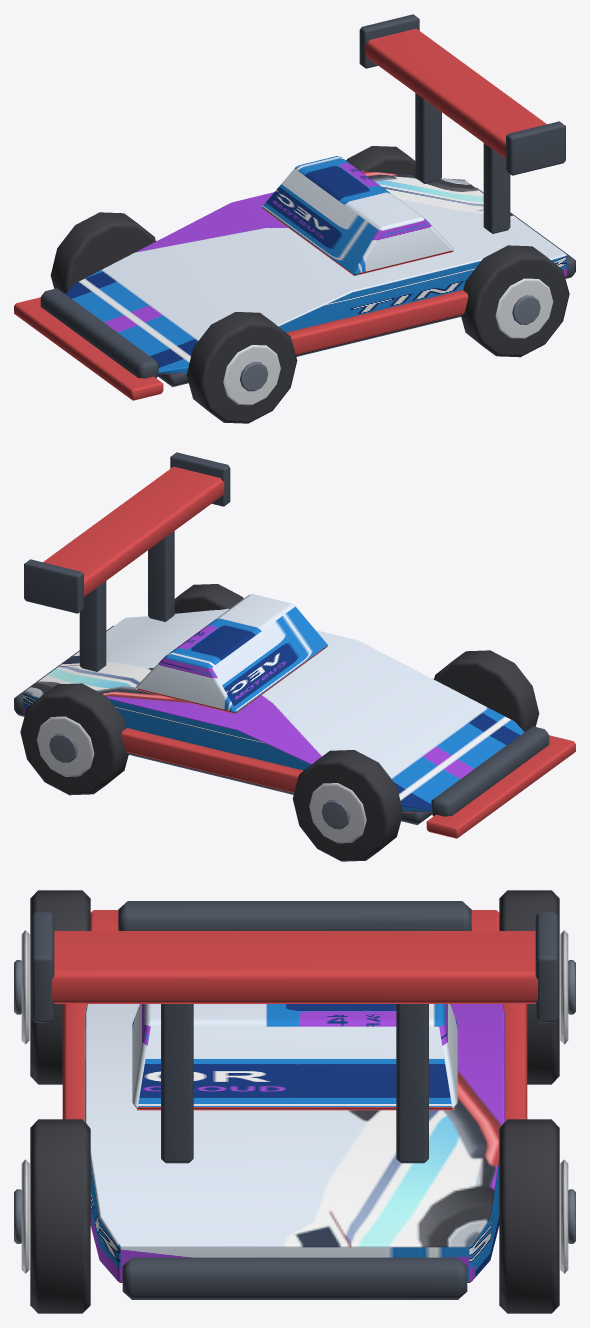
The picture shows the model from 3 angles, top to bottom: view 1: azimuth 30°, elevation 25°; view 2: azimuth 150°, elevation 25°; view 3: azimuth 270°, elevation 25°; orthographic projection. The views are drawn at different scales.
Parts seen in each view (by area): view 1: FF-05_connected_shell, FF-05_cabin, rear airfoil, Tire, Tire.002, Tire.001, custom side guard, custom chin, front bumper, wing endplate, wing support, wing support.001 (+7 smaller); view 2: FF-05_connected_shell, FF-05_cabin, rear airfoil, Tire.001, Tire.003, Tire, custom side guard.001, custom chin, front bumper, wing endplate.001, wing support.001, wing support (+7 smaller); view 3: FF-05_connected_shell, rear airfoil, FF-05_cabin, rear bumper, Tire.002, Tire.003, front bumper, wing support, wing support.001, Tire, Tire.001, custom side guard (+8 smaller).
Part boxes in pixels (x1=…): FF-05_connected_shell: x1=65, y1=170, x2=566, y2=374; FF-05_cabin: x1=262, y1=156, x2=453, y2=275; rear airfoil: x1=365, y1=28, x2=546, y2=158; Tire: x1=186, y1=312, x2=297, y2=423; Tire.002: x1=461, y1=245, x2=569, y2=357; Tire.001: x1=50, y1=212, x2=155, y2=293; custom side guard: x1=286, y1=290, x2=468, y2=354; custom chin: x1=14, y1=297, x2=163, y2=400; front bumper: x1=40, y1=288, x2=158, y2=378; wing endplate: x1=506, y1=121, x2=565, y2=175; wing support: x1=483, y1=143, x2=510, y2=233; wing support.001: x1=415, y1=93, x2=441, y2=183; FF-05_connected_shell: x1=23, y1=608, x2=524, y2=812; FF-05_cabin: x1=136, y1=594, x2=327, y2=713; rear airfoil: x1=43, y1=466, x2=224, y2=596; Tire.001: x1=292, y1=750, x2=403, y2=861; Tire.003: x1=20, y1=683, x2=128, y2=795; Tire: x1=434, y1=650, x2=539, y2=731; custom side guard.001: x1=121, y1=728, x2=303, y2=792; custom chin: x1=426, y1=735, x2=575, y2=838; front bumper: x1=431, y1=726, x2=549, y2=816; wing endplate.001: x1=24, y1=559, x2=83, y2=613; wing support.001: x1=79, y1=581, x2=106, y2=671; wing support: x1=148, y1=531, x2=174, y2=621; FF-05_connected_shell: x1=84, y1=1004, x2=505, y2=1282; rear airfoil: x1=52, y1=931, x2=537, y2=1003; FF-05_cabin: x1=132, y1=1004, x2=457, y2=1110; rear bumper: x1=122, y1=1257, x2=467, y2=1299; Tire.002: x1=30, y1=1119, x2=90, y2=1313; Tire.003: x1=499, y1=1119, x2=559, y2=1313; front bumper: x1=118, y1=901, x2=471, y2=930; wing support: x1=161, y1=1004, x2=193, y2=1163; wing support.001: x1=396, y1=1004, x2=428, y2=1163; Tire: x1=30, y1=890, x2=90, y2=1084; Tire.001: x1=499, y1=890, x2=559, y2=1084; custom side guard: x1=62, y1=1004, x2=86, y2=1121.
Bounding box in the file's own units: 391 × 183 × 242.
